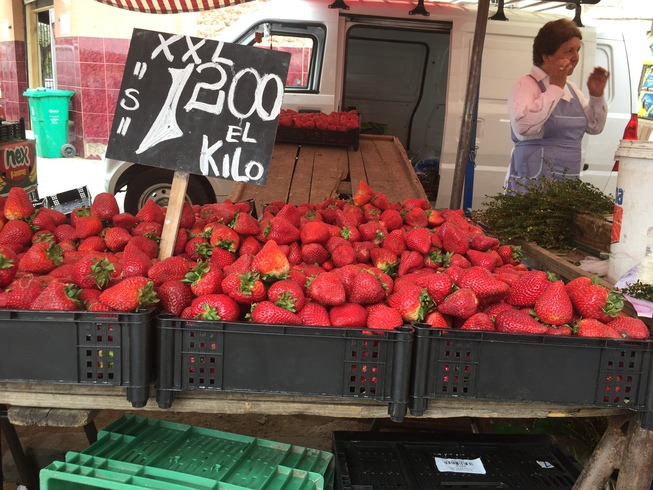precio: (101, 25, 297, 191)
